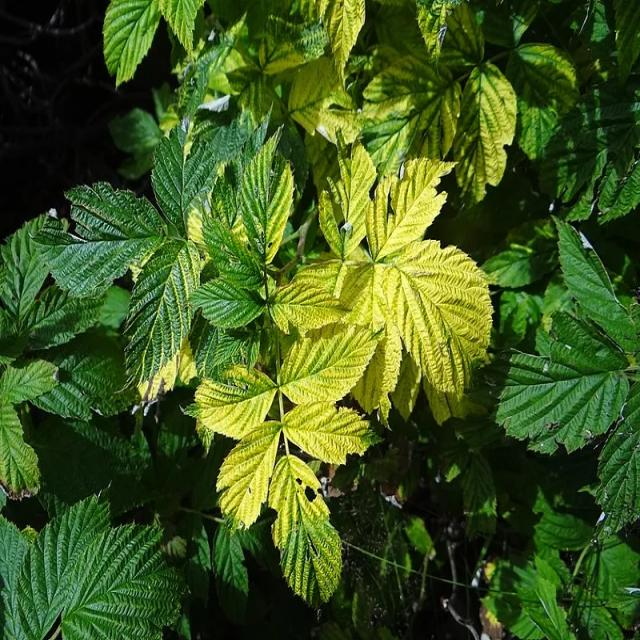Chlorosis: (167, 150, 502, 602)
